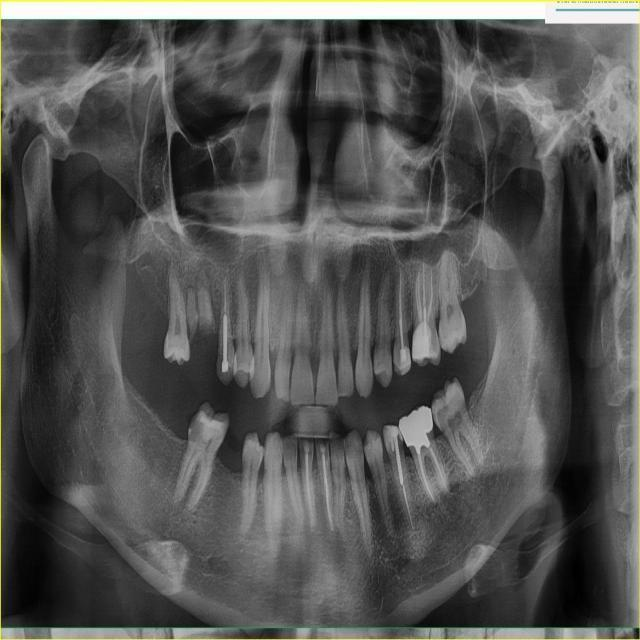71: (391, 427, 406, 486), (221, 314, 231, 373), (396, 319, 407, 362), (421, 307, 429, 351)
72: (183, 268, 218, 343)
74: (426, 446, 454, 497), (415, 453, 437, 506), (320, 454, 334, 527), (426, 266, 437, 321), (401, 484, 413, 530), (304, 453, 312, 515), (414, 273, 423, 323), (423, 262, 427, 307), (399, 273, 402, 319), (224, 279, 226, 312)
NucleOSS Implant: (395, 404, 446, 458)
Sterngold Implant: (188, 410, 206, 446), (434, 396, 450, 415), (439, 330, 447, 346), (431, 408, 439, 424), (314, 385, 320, 400), (435, 336, 441, 351), (311, 387, 314, 401)
Straumann Implant: (212, 342, 239, 384), (411, 322, 438, 363), (380, 422, 405, 453), (396, 346, 413, 375), (301, 439, 310, 453), (320, 441, 326, 452)
